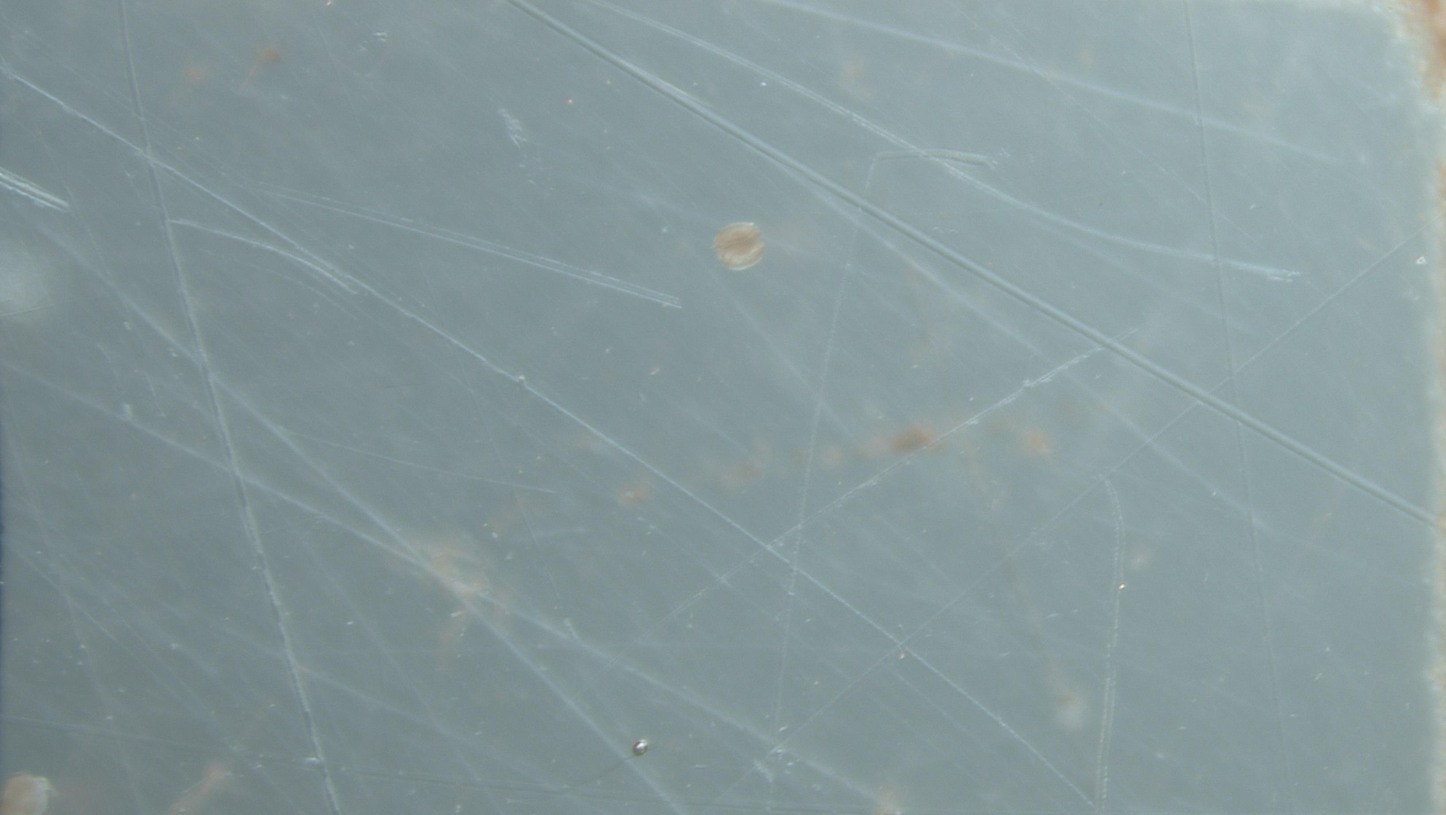live: (713, 222, 765, 272)
